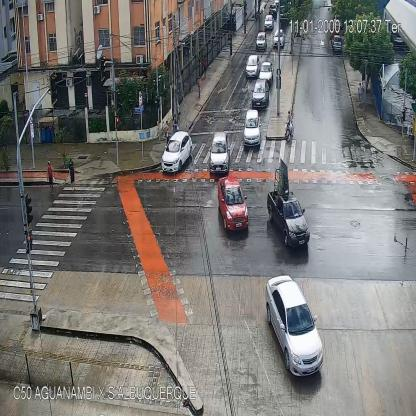bicycle: (284, 110, 294, 144)
car: (266, 275, 324, 375), (268, 191, 308, 250), (218, 177, 250, 232), (161, 132, 193, 170), (209, 133, 230, 173), (243, 109, 261, 147), (252, 81, 268, 108), (261, 61, 273, 84), (255, 30, 267, 53), (246, 55, 258, 76), (274, 28, 284, 47), (332, 36, 342, 54), (264, 14, 274, 31), (269, 4, 277, 18)
person: (46, 162, 56, 194), (69, 158, 76, 188), (165, 119, 170, 146), (358, 82, 363, 104), (197, 77, 201, 98), (202, 57, 206, 77)
